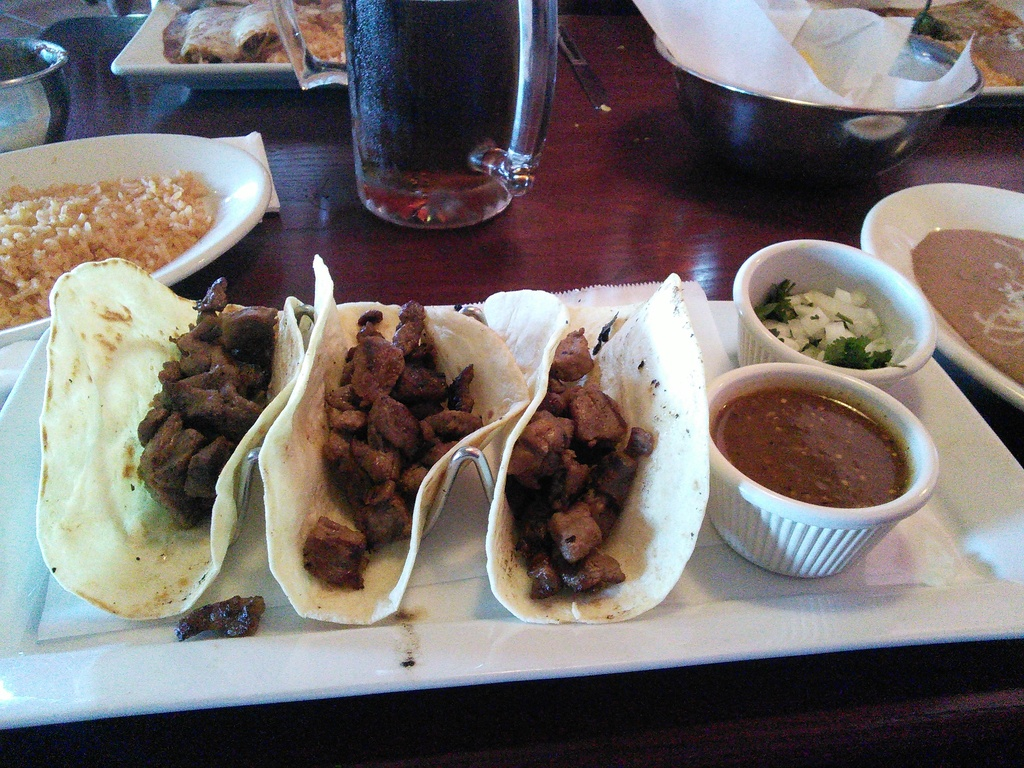taco: (34, 257, 305, 621), (452, 265, 715, 632), (257, 305, 530, 625)
